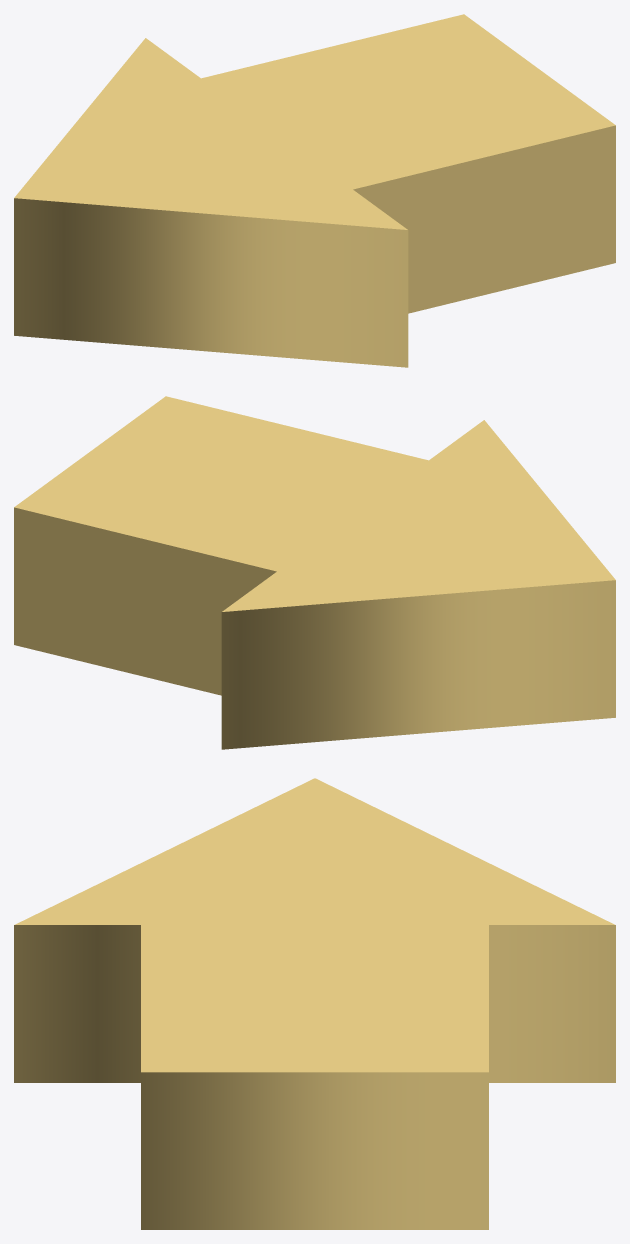
File: arrow.gltf
The picture shows the model from 3 angles, top to bottom: view 1: azimuth 30°, elevation 25°; view 2: azimuth 150°, elevation 25°; view 3: azimuth 270°, elevation 25°; orthographic projection. The views are drawn at different scales.
Parts seen in each view (by area): view 1: arrow; view 2: arrow; view 3: arrow.
Boxes of the visible parts, left/top/right/bottom form: arrow: left=14, top=14, right=615, bottom=367; arrow: left=14, top=396, right=615, bottom=749; arrow: left=14, top=778, right=615, bottom=1229.
Size of the model in its own units: 0.8 by 0.2 by 0.692.
